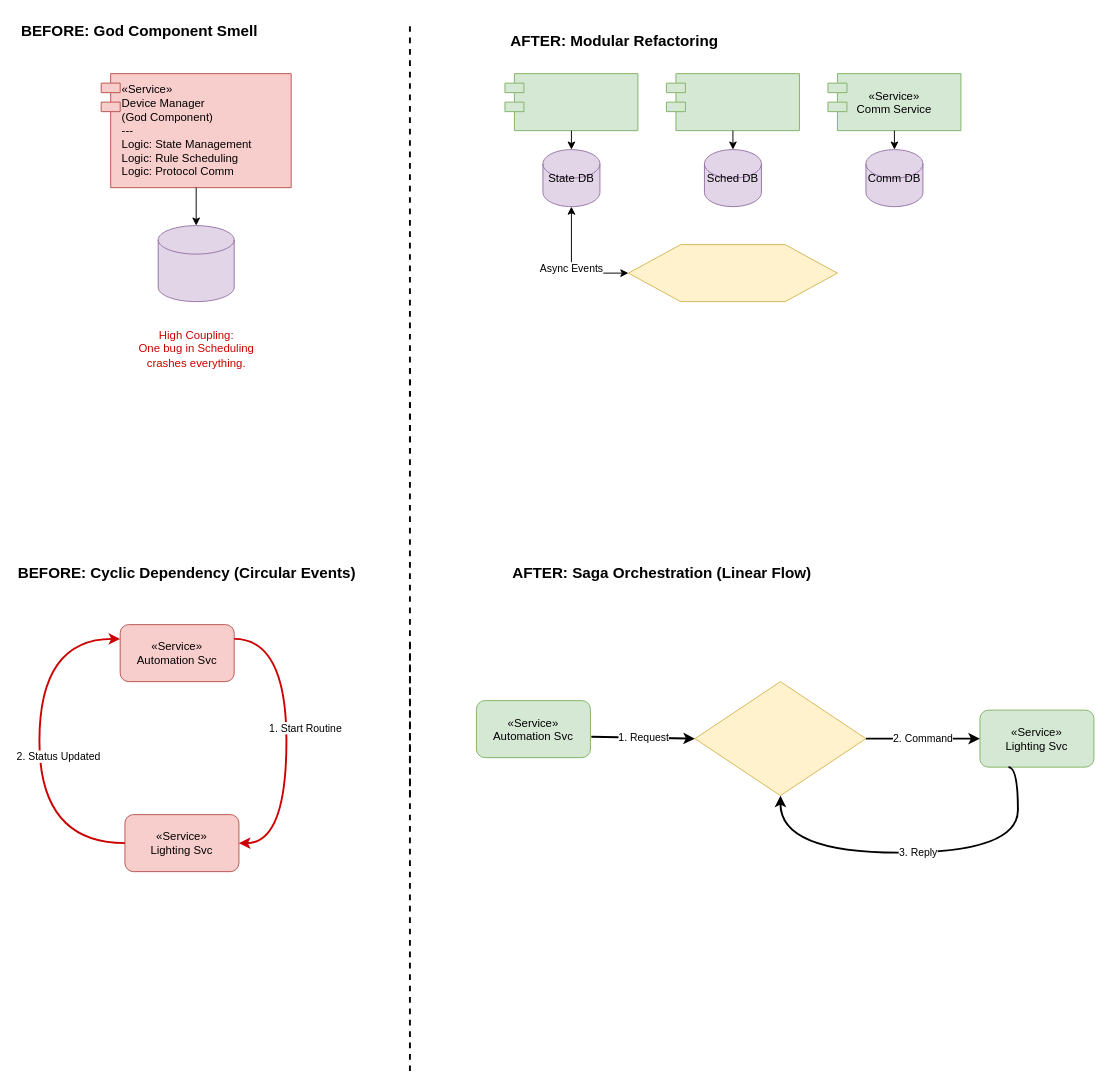
This 1111x1089 diagram has some shape labels left out. The shapes that lost their labels are listed below. From the top down, each one's centre as x and y in pixels, then its label:
At pixel 571 102: "«Service» State Service".
At pixel 732 102: "«Service» Scheduler Service".
At pixel 195 263: "Device DB".
At pixel 732 273: "Internal Message Broker (Event Bus)".
At pixel 780 738: "«Orchestrator» Morning Routine Saga".
